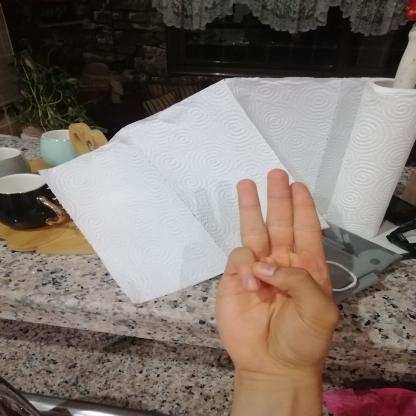THA: (196, 159, 360, 384)
